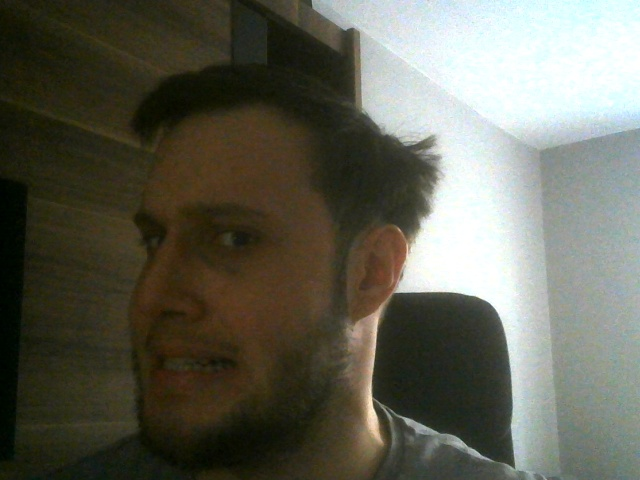angry: (128, 67, 409, 456)
